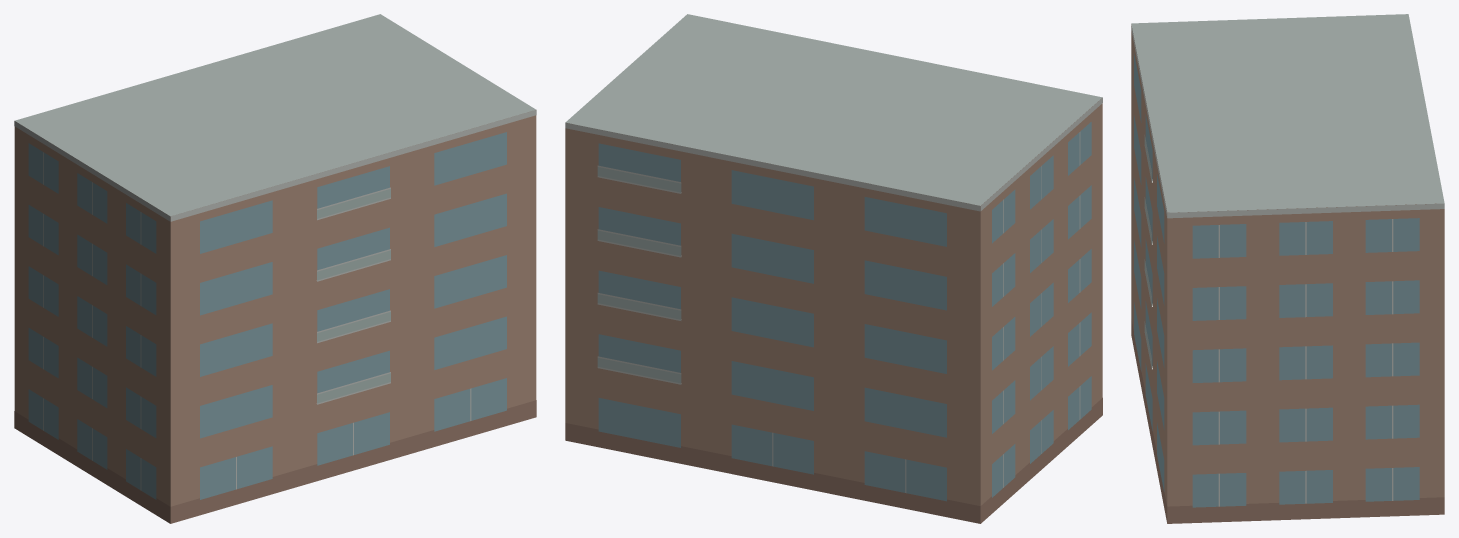
File: survey-upis-32759625.glb
3 views of the same model, side by side, from view 1: azimuth 30°, elevation 25°; view 2: azimuth 150°, elevation 25°; view 3: azimuth 270°, elevation 25° (orthographic). The views are drawn at different scales.
Parts seen in each view (by area): view 1: survey-upis-32759625.tmp; view 2: survey-upis-32759625.tmp; view 3: survey-upis-32759625.tmp.
Part boxes in pixels (box(x1,y1,x2,y2)): survey-upis-32759625.tmp: box(14, 14, 536, 523); survey-upis-32759625.tmp: box(565, 14, 1102, 523); survey-upis-32759625.tmp: box(1131, 14, 1444, 523).
Size of the model in its own units: 18.79 by 13.7 by 12.52.
